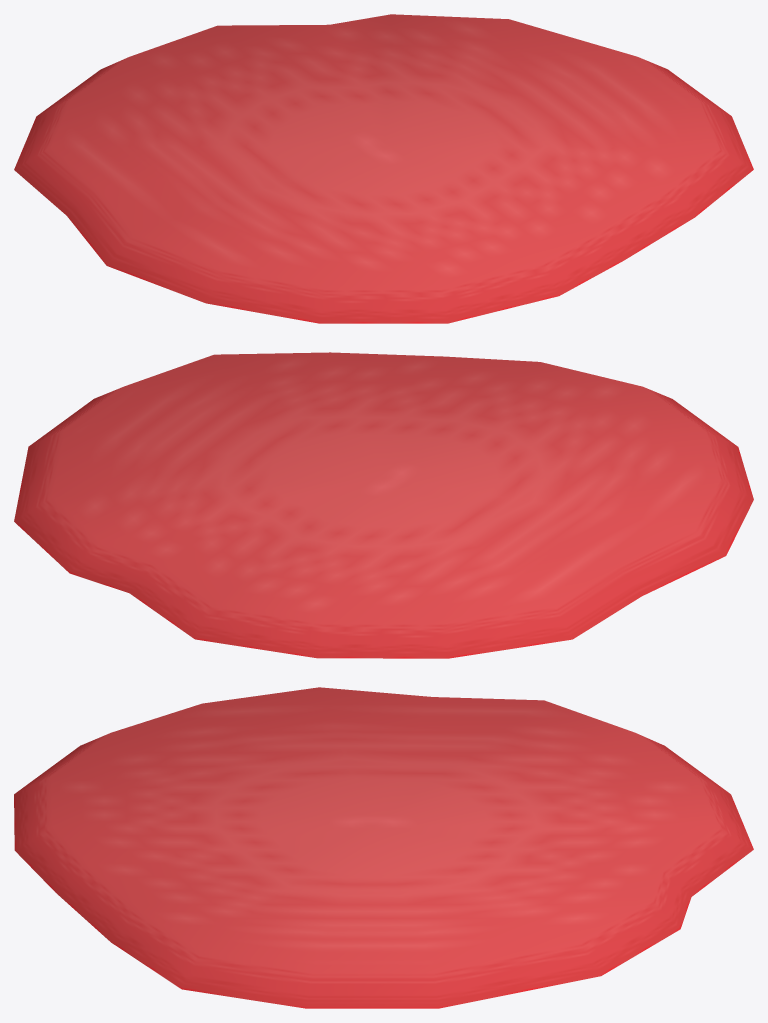
File: food_ingredient_tomato_sauce.gltf
3 renders of one model, top to bottom at view 1: azimuth 30°, elevation 25°; view 2: azimuth 150°, elevation 25°; view 3: azimuth 270°, elevation 25°, orthographic. The views are drawn at different scales.
Parts seen in each view (by area): view 1: food_ingredient_tomato_sauce; view 2: food_ingredient_tomato_sauce; view 3: food_ingredient_tomato_sauce.
Part boxes in pixels (box(x1,y1,x2,y2)): food_ingredient_tomato_sauce: box(14, 14, 753, 323); food_ingredient_tomato_sauce: box(14, 352, 753, 658); food_ingredient_tomato_sauce: box(14, 687, 753, 1008).
Size of the model in its own units: 1.56 by 0.0546 by 1.55.
Materials: 1 (1 with a texture image).
